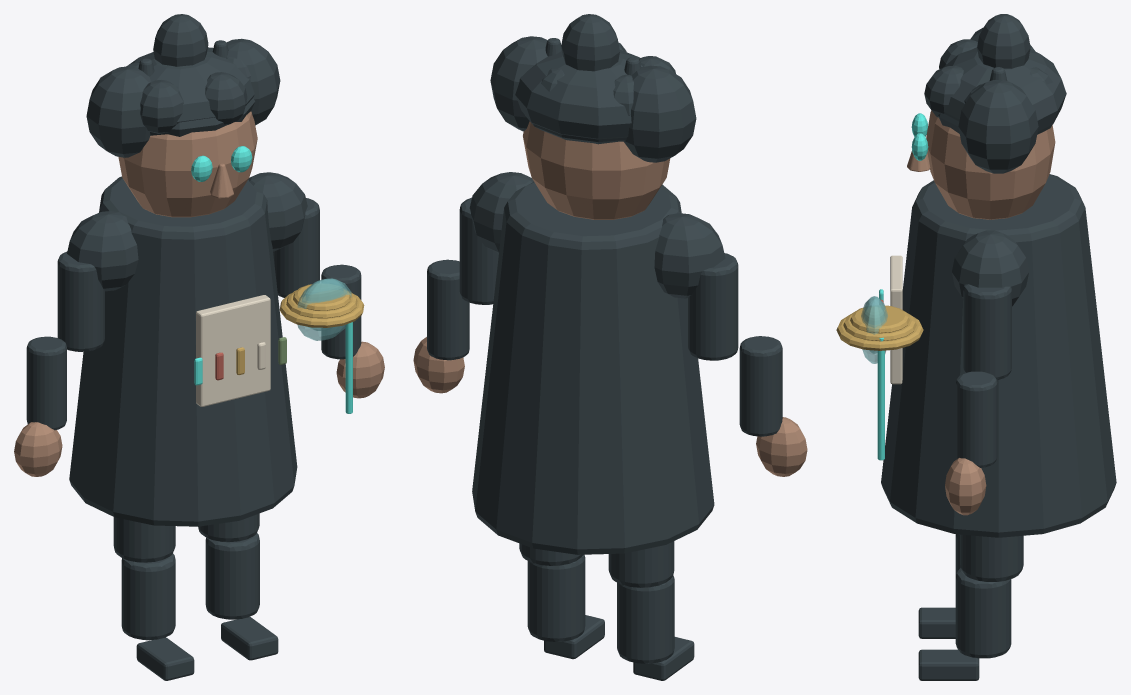
The model's file is Keeper_1.fbx.
The picture shows the model from 3 angles, left to right: view 1: azimuth 30°, elevation 25°; view 2: azimuth 150°, elevation 25°; view 3: azimuth 270°, elevation 25°; orthographic projection. The views are drawn at different scales.
Visible parts, largest first — view 1: FieldCoat, HeadMesh, CivicApron, Hair_2_Puff_R, RightShin, LeftShin, RightArm, RightShoulderPad, RightForearm, Hair_1_Crown, LeftArm, LeftShoulderPad (+19 smaller); view 2: FieldCoat, HeadMesh, Hair_1_Crown, Hair_2_Puff_R, RightArm, LeftShin, RightShin, RightShoulderPad, RightForearm, LeftForearm, Hair_2_Puff_L, LeftArm (+9 smaller); view 3: FieldCoat, HeadMesh, Hair_2_Puff_L, LeftShin, LeftArm, Hair_1_Crown, LeftShoulderPad, LeftForearm, LeftThigh, Hair_1_Knot, LeftHandMesh, LeftFootMesh (+10 smaller).
Boxes of the visible parts, x1=… form: FieldCoat: x1=69, y1=176, x2=297, y2=526; HeadMesh: x1=118, y1=111, x2=257, y2=217; CivicApron: x1=196, y1=295, x2=270, y2=406; Hair_2_Puff_R: x1=86, y1=66, x2=150, y2=157; RightShin: x1=121, y1=553, x2=175, y2=640; LeftShin: x1=205, y1=533, x2=259, y2=619; RightArm: x1=57, y1=251, x2=104, y2=351; RightShoulderPad: x1=67, y1=211, x2=138, y2=291; RightForearm: x1=26, y1=336, x2=66, y2=430; Hair_1_Crown: x1=129, y1=47, x2=254, y2=123; LeftArm: x1=273, y1=198, x2=319, y2=297; LeftShoulderPad: x1=248, y1=172, x2=307, y2=251; FieldCoat: x1=472, y1=181, x2=714, y2=554; HeadMesh: x1=523, y1=121, x2=670, y2=219; Hair_1_Crown: x1=515, y1=50, x2=642, y2=139; Hair_2_Puff_R: x1=623, y1=65, x2=696, y2=162; RightArm: x1=688, y1=253, x2=738, y2=360; LeftShin: x1=527, y1=554, x2=585, y2=641; RightShin: x1=617, y1=575, x2=674, y2=663; RightShoulderPad: x1=654, y1=213, x2=725, y2=298; RightForearm: x1=739, y1=336, x2=782, y2=436; LeftForearm: x1=427, y1=259, x2=469, y2=360; Hair_2_Puff_L: x1=490, y1=36, x2=547, y2=131; LeftArm: x1=459, y1=197, x2=498, y2=304; FieldCoat: x1=881, y1=174, x2=1116, y2=537; HeadMesh: x1=926, y1=110, x2=1055, y2=219; Hair_2_Puff_L: x1=958, y1=80, x2=1038, y2=173; LeftShin: x1=955, y1=568, x2=1011, y2=658; LeftArm: x1=963, y1=284, x2=1011, y2=380; Hair_1_Crown: x1=944, y1=47, x2=1066, y2=131; LeftShoulderPad: x1=952, y1=230, x2=1028, y2=306; LeftForearm: x1=956, y1=371, x2=997, y2=467; LeftThigh: x1=960, y1=534, x2=1023, y2=581; Hair_1_Knot: x1=977, y1=14, x2=1030, y2=68; LeftHandMesh: x1=945, y1=458, x2=986, y2=515; LeftFootMesh: x1=918, y1=649, x2=979, y2=680.
Size of the model in its own units: 1.56 by 2.55 by 1.01.
